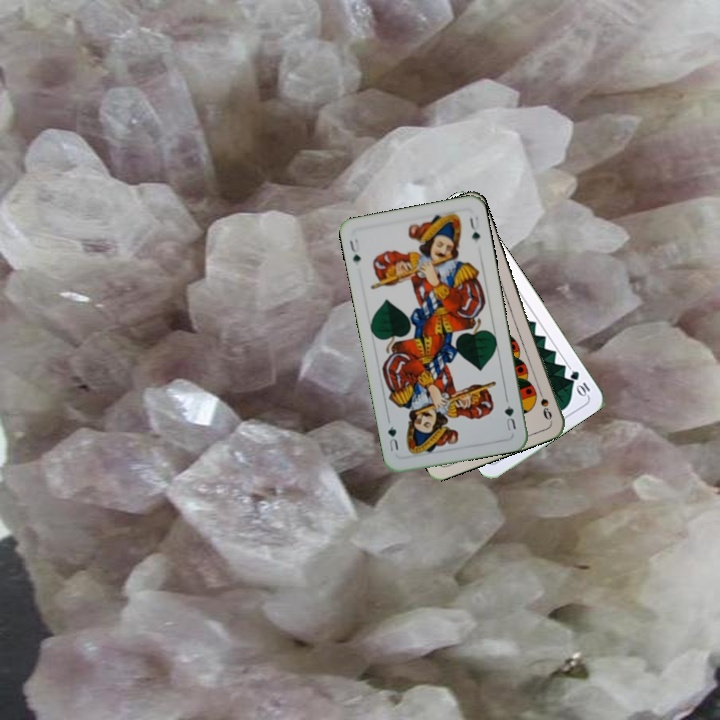G10: (566, 367, 593, 399)
GU: (500, 401, 519, 433), (345, 235, 363, 264)
S9: (533, 383, 554, 423)
